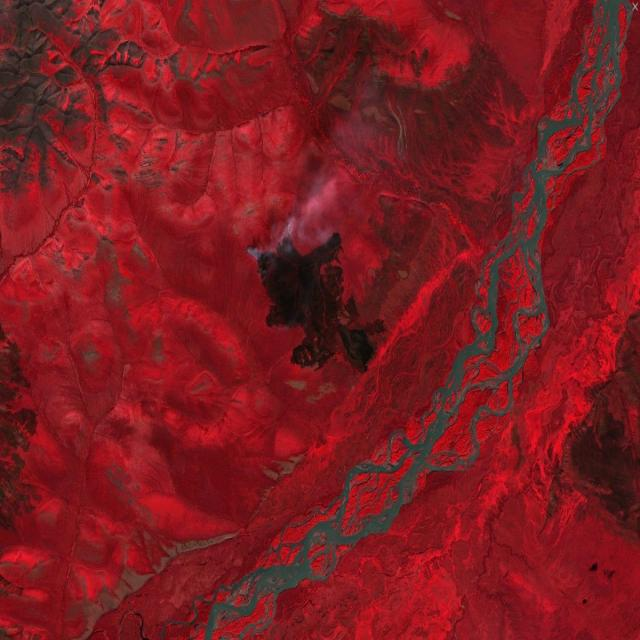fire: (244, 220, 307, 332)
